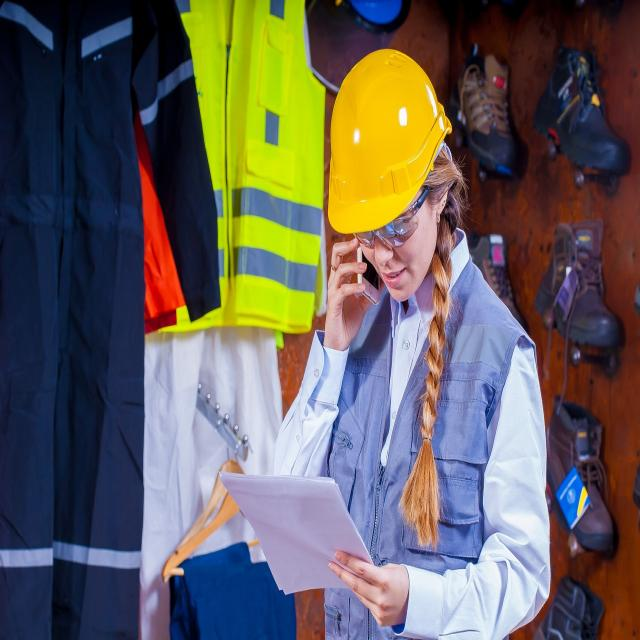Reflective-Jacket: (143, 19, 333, 348)
Safety-Helmet: (323, 47, 453, 231)
